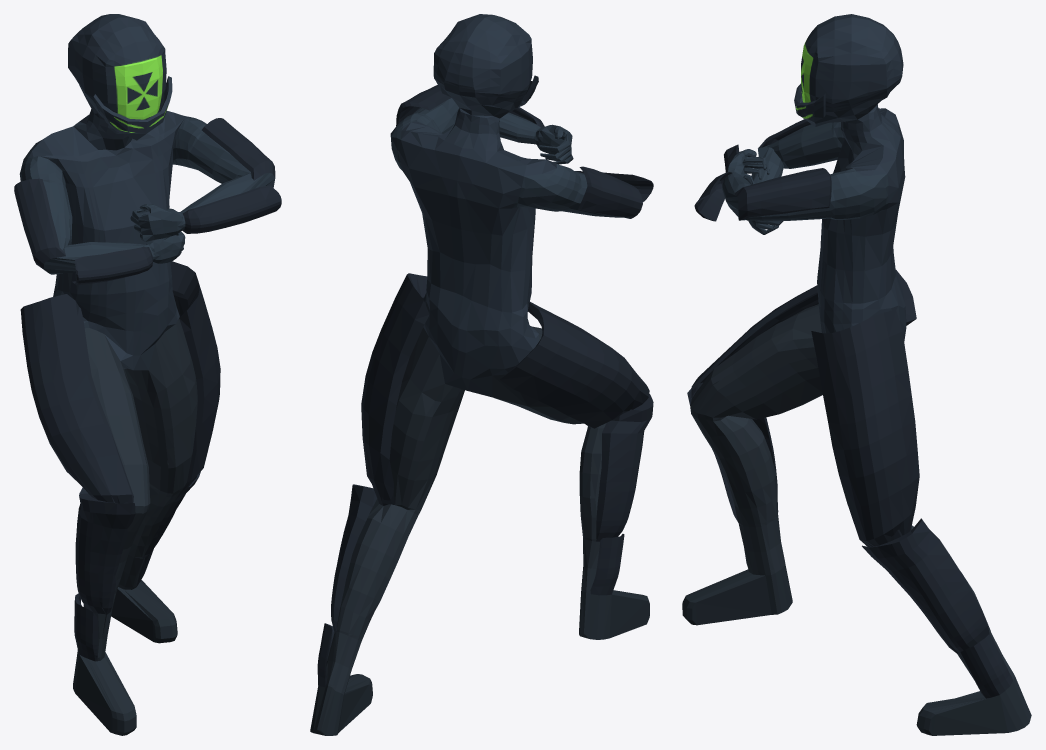
File: Bastion_WB_000006.obj
3 views of the same model, side by side, from view 1: azimuth 30°, elevation 25°; view 2: azimuth 150°, elevation 25°; view 3: azimuth 270°, elevation 25° (orthographic).
Parts seen in each view (by area): view 1: Cube.002; view 2: Cube.002; view 3: Cube.002.
Boxes of the visible parts, bbox=[...] form: Cube.002: bbox=[14, 14, 281, 735]; Cube.002: bbox=[310, 14, 653, 735]; Cube.002: bbox=[682, 14, 1031, 735].
Size of the model in its own units: 1.32 by 3.67 by 1.73.
